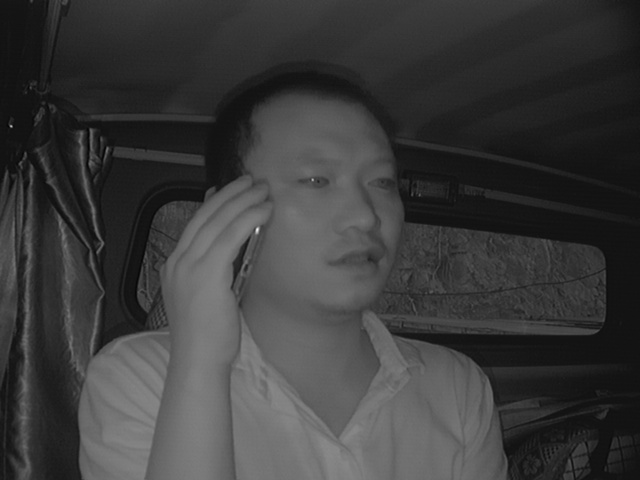hand: (155, 176, 278, 351)
